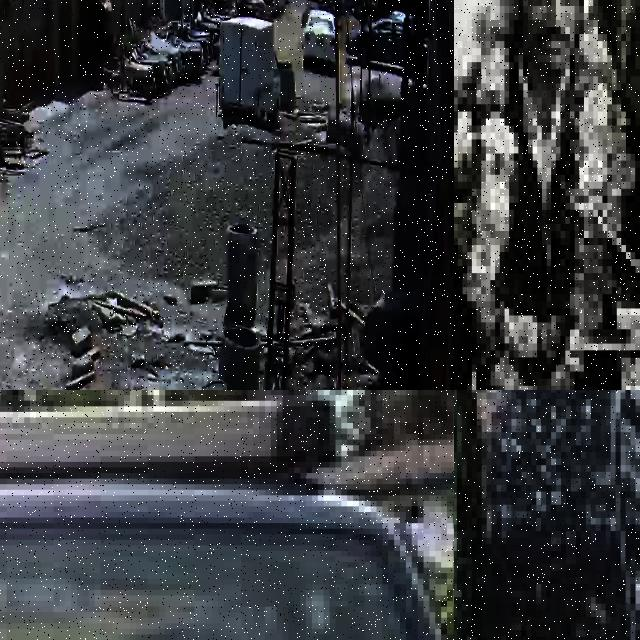bike: (111, 47, 155, 102)
car: (0, 484, 454, 640), (454, 390, 640, 640), (346, 17, 426, 72), (302, 10, 336, 68), (248, 0, 287, 13)
